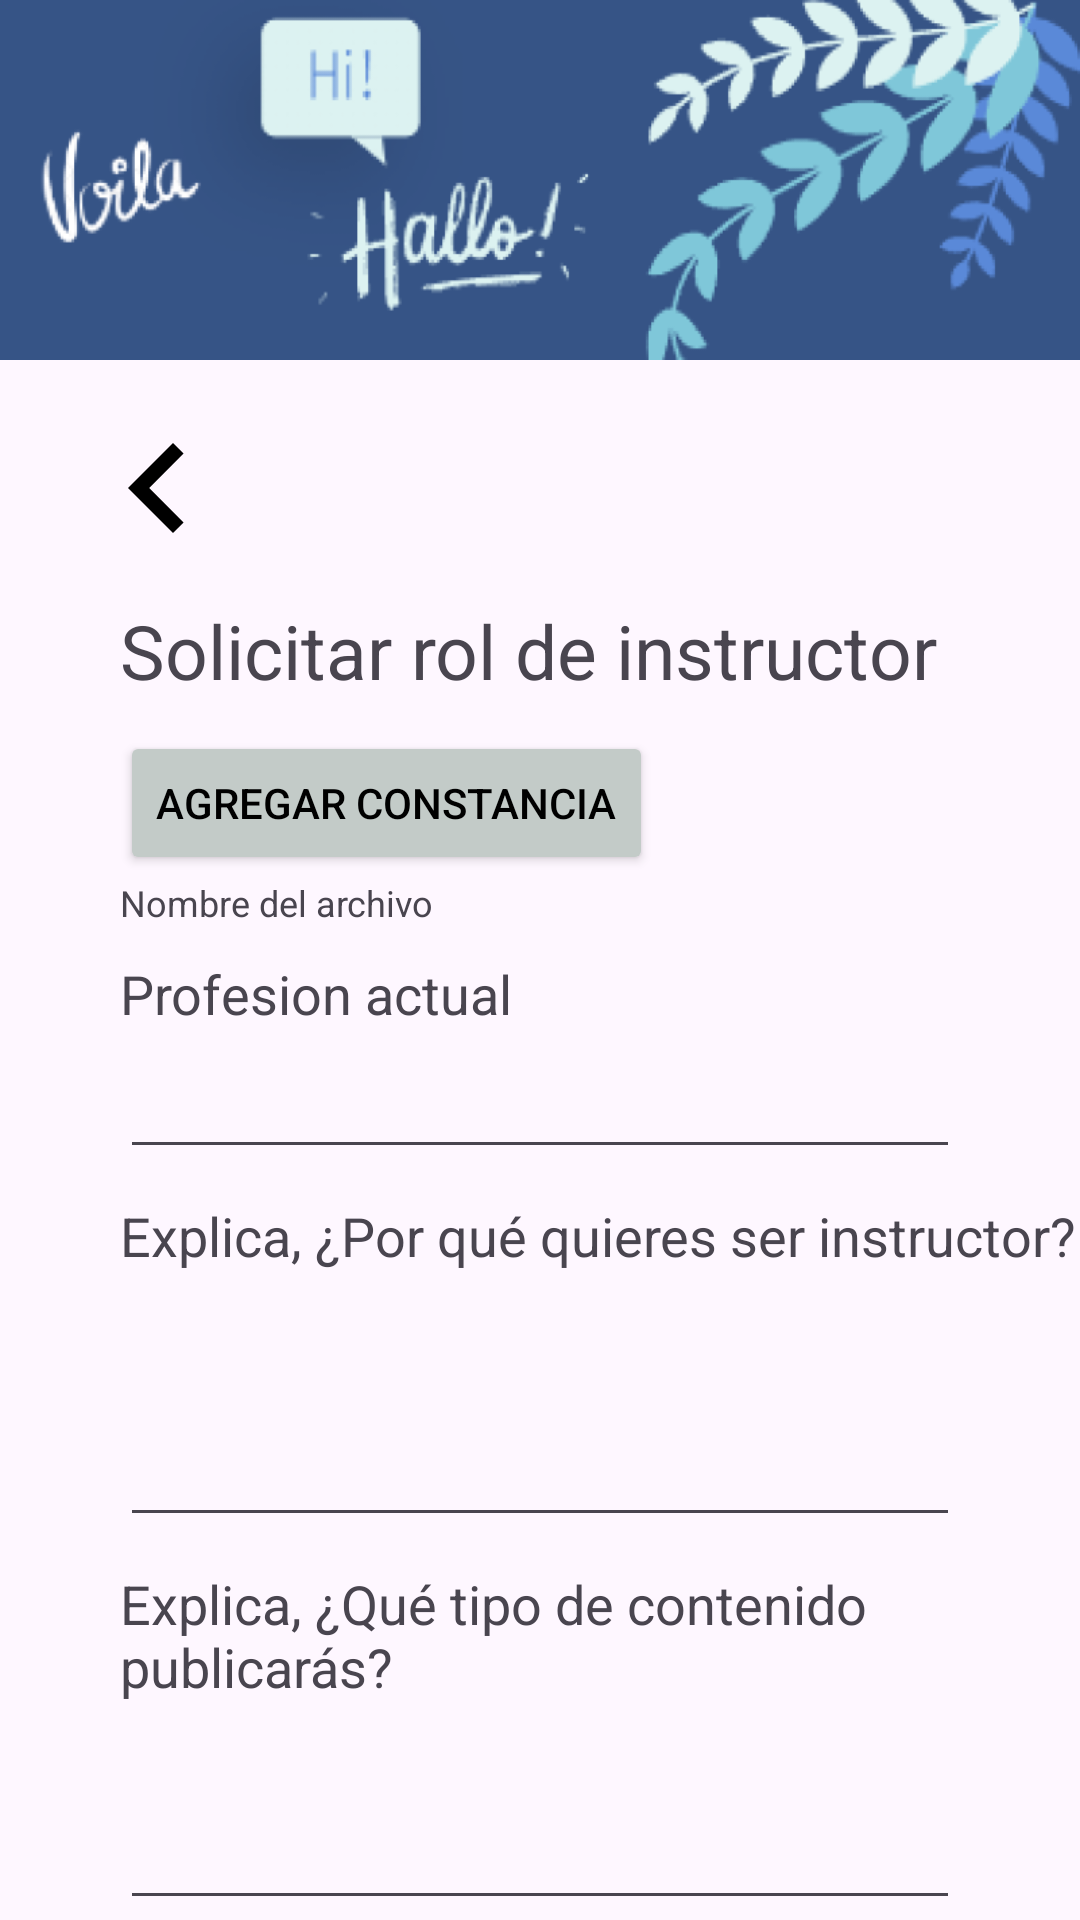

Icons on this 1080 x 1920 Android screen, each with its box as rect(x1, y1, x2, y2):
chevron left: rect(128, 443, 184, 533)
